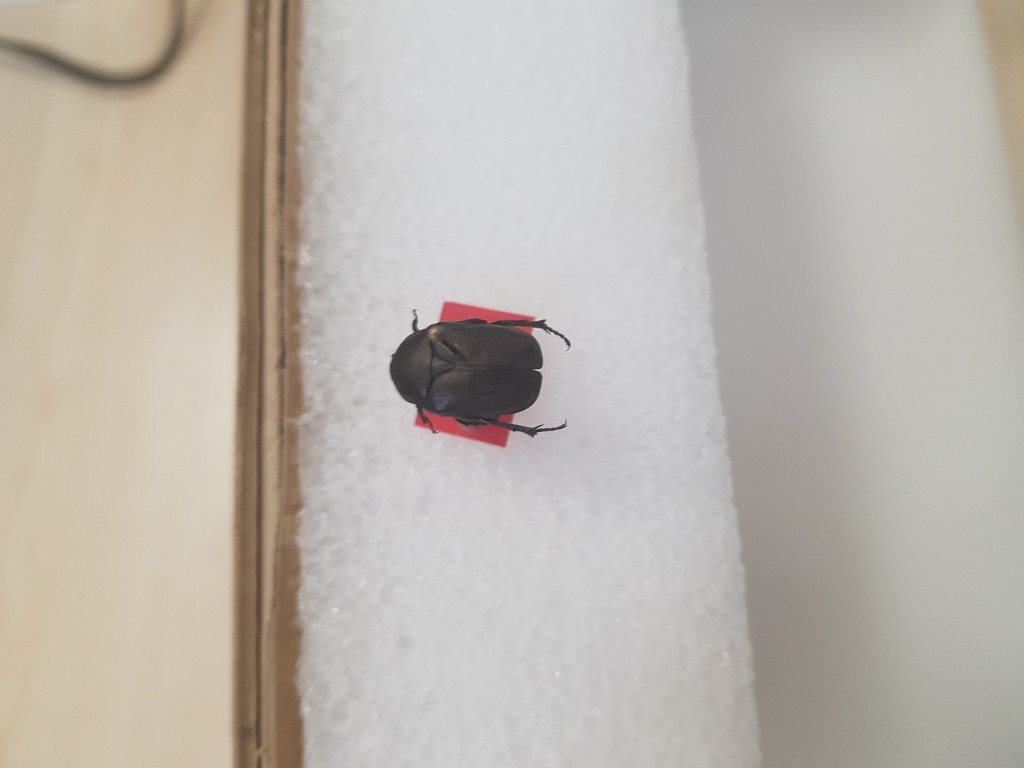Protaetia_vidua: (381, 281, 597, 449)
